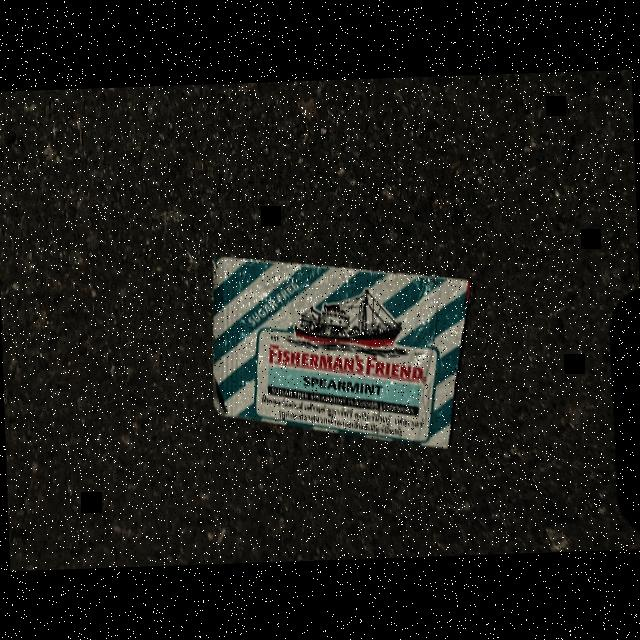snack_bag: (187, 230, 496, 472)
